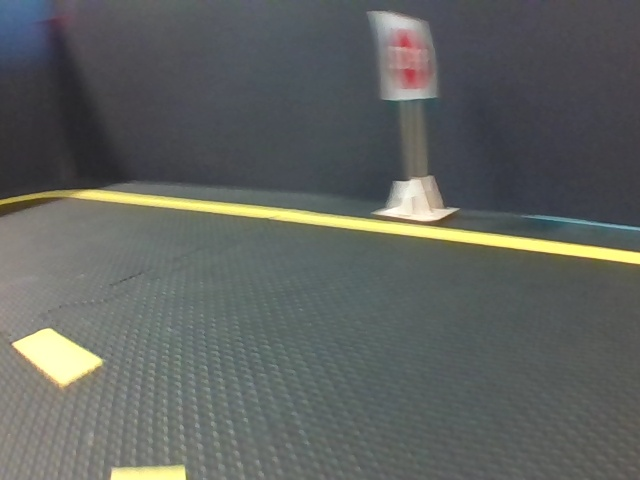stop: (377, 12, 435, 99)
